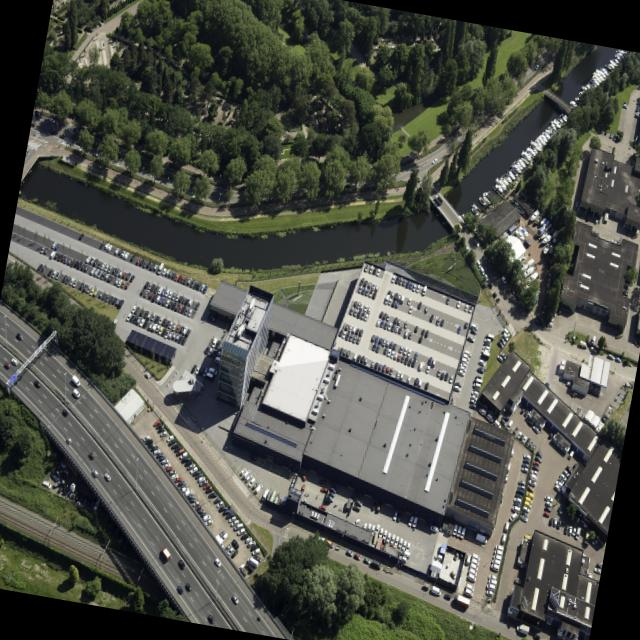large-vehicle: (451, 592, 469, 609), (514, 620, 529, 634), (159, 545, 170, 561), (237, 561, 248, 575), (474, 532, 486, 543), (430, 584, 441, 595), (432, 192, 442, 204), (155, 261, 163, 274), (204, 370, 214, 380), (508, 510, 517, 521), (470, 551, 480, 560), (453, 220, 462, 230), (463, 587, 472, 597), (522, 237, 531, 247), (485, 411, 493, 422), (505, 418, 512, 430), (458, 526, 465, 538), (464, 582, 473, 591), (207, 365, 216, 374), (466, 572, 475, 581), (467, 567, 476, 576), (492, 418, 500, 428), (464, 552, 470, 565), (487, 577, 496, 585), (500, 531, 506, 543), (478, 406, 486, 415), (455, 524, 461, 536), (428, 524, 437, 532), (489, 562, 498, 570), (468, 562, 477, 570), (510, 504, 519, 512), (504, 460, 510, 472), (485, 582, 494, 590), (433, 552, 442, 560), (32, 108, 40, 117), (492, 548, 502, 555), (499, 274, 506, 284), (451, 523, 457, 534), (470, 557, 478, 565), (214, 355, 222, 363), (494, 543, 503, 550), (492, 553, 501, 560), (490, 557, 499, 564), (503, 519, 508, 531), (533, 61, 540, 69), (487, 573, 495, 580), (216, 350, 223, 356), (47, 116, 54, 122)
ship: (493, 175, 508, 191), (520, 262, 534, 279), (528, 137, 542, 152), (525, 268, 538, 284), (511, 200, 524, 213), (591, 69, 604, 82), (517, 223, 529, 237), (513, 227, 525, 241), (519, 148, 531, 161), (534, 222, 545, 236), (528, 207, 539, 221), (539, 232, 551, 244), (509, 161, 521, 173), (594, 66, 605, 78), (501, 171, 512, 183), (518, 260, 528, 273), (535, 135, 546, 146), (512, 158, 523, 169), (505, 168, 515, 180), (493, 181, 503, 193), (541, 240, 550, 253), (549, 118, 560, 128), (537, 132, 548, 142), (525, 145, 535, 156), (516, 156, 526, 167), (598, 65, 609, 75), (589, 75, 599, 86), (591, 72, 601, 83), (614, 48, 624, 59), (498, 175, 508, 186), (508, 166, 518, 176), (540, 129, 550, 139), (519, 154, 529, 164), (538, 229, 548, 239), (533, 137, 542, 148), (547, 223, 556, 234), (532, 213, 541, 224), (541, 216, 549, 228), (481, 194, 490, 204), (557, 112, 567, 121), (543, 126, 552, 136), (528, 143, 537, 153), (537, 215, 546, 225), (608, 57, 617, 66), (568, 98, 577, 107), (550, 228, 558, 238), (470, 206, 478, 216), (549, 121, 557, 130), (543, 221, 551, 230), (579, 83, 587, 92), (583, 81, 590, 91), (613, 53, 621, 61), (589, 78, 596, 87), (573, 94, 580, 103), (577, 89, 584, 98), (611, 56, 619, 63), (603, 62, 611, 69), (607, 61, 614, 68), (547, 270, 553, 278), (556, 116, 562, 123), (471, 202, 477, 209), (546, 281, 550, 289), (481, 191, 488, 195), (520, 254, 525, 258)
small-vehicle: (64, 481, 76, 497), (213, 532, 224, 548), (245, 554, 258, 567), (69, 373, 80, 387), (369, 558, 381, 569), (260, 486, 269, 500), (52, 477, 63, 487), (40, 478, 51, 488), (577, 338, 587, 348), (174, 446, 184, 456), (222, 541, 231, 552), (253, 482, 262, 493), (244, 561, 253, 572), (582, 530, 589, 544), (573, 525, 580, 539), (177, 557, 185, 569), (230, 536, 238, 548), (241, 467, 249, 479), (71, 386, 79, 398), (230, 592, 238, 604), (374, 499, 381, 512), (92, 497, 99, 510), (246, 476, 255, 486), (397, 553, 406, 563), (206, 612, 214, 623), (175, 583, 183, 594), (213, 556, 221, 567), (115, 297, 123, 308), (410, 515, 417, 527), (477, 406, 486, 415), (553, 479, 562, 488), (484, 331, 493, 340), (480, 349, 489, 358), (233, 521, 242, 530), (400, 549, 409, 558), (246, 538, 255, 547), (566, 448, 574, 458), (472, 376, 482, 384), (558, 471, 566, 481), (501, 326, 509, 336), (226, 545, 234, 555), (219, 531, 227, 541), (56, 483, 64, 493), (229, 518, 239, 526), (364, 521, 371, 532), (406, 515, 413, 526), (368, 523, 375, 534), (396, 536, 403, 547), (392, 534, 399, 545), (384, 531, 391, 542), (230, 547, 237, 558), (194, 279, 201, 290), (193, 363, 200, 374), (452, 383, 460, 392), (524, 490, 533, 498), (528, 472, 537, 480), (524, 494, 532, 503), (592, 565, 601, 573), (564, 464, 572, 473), (519, 513, 527, 522), (495, 353, 503, 362), (469, 321, 477, 330), (460, 355, 468, 364), (462, 348, 471, 356), (477, 357, 485, 366), (351, 517, 359, 526), (395, 510, 401, 522), (512, 495, 521, 503), (353, 498, 362, 506), (351, 503, 360, 511), (188, 465, 197, 473), (250, 480, 258, 489), (325, 493, 333, 502), (177, 481, 186, 489), (198, 478, 207, 486), (325, 538, 333, 547), (218, 503, 227, 511), (49, 471, 57, 480), (32, 378, 40, 387), (9, 356, 17, 365), (238, 466, 246, 475), (236, 526, 244, 535), (90, 467, 98, 476), (60, 485, 68, 494), (131, 313, 138, 323), (496, 338, 503, 348), (478, 264, 485, 274), (184, 581, 191, 591), (244, 472, 251, 482), (531, 423, 538, 433), (420, 284, 426, 295), (377, 526, 383, 537), (369, 500, 375, 511), (391, 509, 397, 520), (555, 517, 561, 528), (404, 540, 410, 551), (400, 539, 406, 550), (381, 528, 387, 539), (373, 522, 379, 533), (98, 238, 104, 249), (210, 336, 216, 347), (533, 454, 541, 462), (531, 463, 539, 471), (534, 449, 542, 457), (527, 477, 535, 485), (561, 468, 569, 476), (522, 499, 530, 507), (498, 350, 506, 358), (458, 364, 466, 372), (461, 352, 469, 360), (352, 551, 360, 559), (344, 548, 352, 556), (186, 461, 194, 469), (183, 458, 191, 466), (181, 454, 189, 462), (178, 450, 186, 458), (196, 474, 204, 482), (201, 513, 209, 521), (183, 488, 191, 496), (251, 546, 259, 554), (204, 485, 212, 493), (316, 535, 324, 543), (155, 450, 163, 458), (167, 437, 175, 445), (165, 433, 173, 441), (227, 514, 235, 522), (225, 510, 233, 518), (215, 499, 223, 507), (515, 487, 523, 495), (522, 452, 530, 460), (60, 407, 68, 415), (152, 418, 160, 426), (544, 380, 551, 389), (529, 442, 536, 451), (471, 381, 480, 388), (553, 482, 560, 491), (522, 407, 529, 416), (156, 315, 163, 324), (137, 317, 144, 326), (499, 417, 506, 426), (533, 317, 540, 326), (501, 331, 508, 340), (498, 335, 505, 344), (543, 494, 552, 501), (430, 557, 439, 564), (252, 554, 261, 561), (299, 471, 306, 480), (203, 518, 212, 525), (218, 343, 225, 352), (91, 287, 98, 296), (129, 303, 136, 312), (53, 270, 60, 279), (84, 283, 91, 292), (70, 277, 77, 286), (63, 274, 70, 283), (48, 249, 55, 258), (124, 311, 131, 320), (49, 268, 56, 277), (60, 273, 67, 282), (151, 284, 158, 293), (148, 282, 155, 291), (105, 263, 112, 272), (113, 266, 120, 275), (38, 263, 45, 272), (189, 363, 196, 372), (87, 450, 94, 459), (103, 471, 110, 480), (110, 295, 117, 304), (68, 257, 75, 266), (75, 259, 82, 268), (150, 321, 156, 331), (383, 293, 389, 303), (374, 266, 380, 276), (388, 533, 394, 543), (416, 377, 422, 387), (412, 375, 418, 385), (417, 360, 423, 370), (367, 263, 373, 273), (485, 254, 491, 264), (177, 323, 183, 333), (95, 267, 101, 277), (85, 496, 91, 506), (162, 328, 168, 338), (214, 338, 220, 348), (350, 333, 356, 343), (81, 495, 87, 505), (568, 389, 576, 396), (588, 345, 596, 352), (457, 368, 464, 376), (513, 491, 521, 498), (557, 476, 564, 484), (521, 504, 528, 512), (458, 361, 466, 368), (152, 314, 159, 322), (166, 320, 173, 328), (466, 334, 474, 341), (475, 366, 483, 373), (531, 632, 539, 639), (484, 588, 492, 595), (442, 592, 450, 599), (362, 556, 369, 564), (191, 499, 199, 506), (167, 468, 175, 475), (194, 471, 202, 478), (192, 468, 200, 475), (170, 442, 178, 449), (173, 475, 181, 482), (185, 492, 193, 499), (180, 485, 188, 492), (319, 485, 327, 492), (222, 507, 230, 514), (217, 529, 224, 537), (162, 461, 170, 468), (212, 496, 220, 503), (520, 461, 528, 468), (521, 457, 529, 464), (67, 276, 74, 284), (77, 281, 84, 289), (52, 250, 59, 258), (15, 331, 22, 339), (45, 267, 52, 275), (3, 360, 10, 368), (65, 256, 72, 264), (35, 262, 42, 270), (240, 532, 248, 539), (202, 481, 209, 489), (249, 543, 257, 550), (144, 437, 152, 444), (149, 444, 157, 451), (62, 467, 69, 475), (87, 255, 94, 263), (91, 257, 98, 265), (88, 266, 95, 274), (586, 571, 591, 582), (563, 523, 568, 534), (567, 524, 572, 535), (519, 404, 525, 413), (149, 311, 155, 320), (145, 310, 151, 319), (170, 321, 176, 330), (447, 373, 453, 382), (511, 425, 517, 434), (515, 429, 521, 438), (526, 417, 532, 426), (523, 436, 529, 445), (449, 569, 455, 578), (452, 550, 458, 559), (475, 258, 481, 267), (444, 294, 450, 303), (389, 273, 395, 282), (374, 343, 380, 352), (370, 341, 376, 350), (390, 341, 396, 350), (430, 357, 436, 366), (405, 347, 411, 356), (401, 345, 407, 354), (406, 330, 412, 339), (397, 344, 403, 353), (387, 339, 393, 348), (380, 336, 386, 345), (388, 349, 394, 358), (402, 355, 408, 364), (394, 369, 400, 378), (356, 283, 362, 292), (385, 347, 391, 356), (362, 262, 368, 271), (129, 252, 135, 261), (359, 309, 365, 318), (513, 291, 519, 300), (179, 304, 185, 313), (185, 276, 191, 285), (523, 303, 529, 312), (38, 244, 44, 253), (113, 296, 119, 305), (92, 267, 98, 276), (142, 279, 148, 288), (176, 303, 182, 312), (173, 301, 179, 310), (156, 285, 162, 294), (160, 296, 166, 305), (159, 327, 165, 336), (156, 325, 162, 334), (159, 287, 165, 296), (173, 292, 179, 301), (170, 291, 176, 300), (88, 286, 94, 295), (207, 491, 216, 497), (179, 335, 185, 344), (201, 284, 207, 293), (206, 346, 212, 355), (201, 367, 207, 376), (181, 325, 187, 334), (343, 331, 349, 340), (354, 335, 360, 344), (188, 277, 194, 286), (193, 300, 199, 309), (182, 305, 188, 314), (62, 254, 68, 263), (107, 294, 113, 303), (74, 491, 80, 500), (590, 334, 595, 344), (570, 526, 575, 536), (434, 315, 439, 325), (399, 293, 404, 303), (414, 282, 419, 292), (386, 320, 391, 330), (361, 521, 366, 531), (406, 356, 411, 366), (435, 366, 440, 376), (79, 493, 84, 503), (606, 352, 613, 359), (470, 389, 477, 396), (468, 397, 475, 404), (468, 402, 475, 409), (470, 393, 477, 400), (590, 537, 597, 544), (526, 484, 533, 491), (469, 327, 476, 334), (98, 261, 105, 268), (544, 499, 551, 506), (355, 492, 362, 499), (430, 156, 437, 163), (199, 510, 206, 517), (193, 503, 200, 510), (170, 472, 177, 479), (173, 444, 180, 451), (157, 425, 164, 432), (160, 457, 167, 464), (158, 454, 165, 461), (517, 483, 524, 490), (517, 478, 524, 485), (520, 465, 527, 472), (49, 240, 56, 247), (91, 150, 98, 157), (244, 535, 251, 542), (142, 434, 149, 441), (152, 447, 159, 454), (154, 422, 161, 429), (547, 429, 553, 437), (453, 380, 461, 386), (500, 414, 508, 420), (529, 468, 537, 474), (481, 344, 489, 350), (160, 317, 166, 325), (163, 318, 169, 326), (134, 316, 140, 324), (128, 313, 134, 321), (133, 305, 139, 313), (138, 307, 144, 315), (142, 309, 148, 317), (98, 270, 104, 278), (105, 243, 111, 251), (520, 434, 526, 442), (146, 321, 152, 329), (486, 279, 492, 287), (482, 272, 488, 280), (473, 238, 479, 246), (405, 296, 411, 304), (377, 309, 383, 317), (412, 350, 418, 358), (369, 333, 375, 341), (370, 290, 376, 298), (387, 366, 393, 374), (358, 354, 364, 362), (358, 276, 364, 284), (141, 319, 147, 327), (153, 323, 159, 331), (166, 268, 172, 276), (181, 275, 187, 283), (148, 261, 154, 269), (134, 256, 140, 264), (172, 272, 178, 280), (195, 507, 203, 513), (317, 504, 325, 510), (344, 348, 350, 356), (362, 312, 368, 320), (350, 324, 356, 332), (351, 351, 357, 359), (122, 250, 128, 258), (65, 435, 71, 443), (56, 464, 62, 472), (157, 295, 163, 303), (53, 468, 59, 476), (56, 252, 62, 260), (59, 253, 65, 261), (142, 288, 148, 296), (106, 273, 112, 281), (170, 331, 176, 339), (166, 330, 172, 338), (163, 288, 169, 296), (166, 290, 172, 298), (128, 273, 134, 281), (119, 279, 125, 287), (124, 271, 130, 279), (123, 280, 129, 288), (115, 277, 121, 285), (163, 298, 169, 306), (198, 282, 204, 290), (186, 308, 192, 316), (183, 328, 189, 336), (103, 293, 109, 301), (146, 441, 154, 447), (72, 258, 78, 266), (84, 254, 90, 262), (112, 246, 118, 254), (77, 231, 83, 239), (82, 263, 88, 271), (463, 302, 468, 311), (352, 307, 357, 316), (348, 305, 353, 314), (174, 323, 179, 332), (416, 300, 421, 309), (382, 345, 387, 354), (397, 275, 402, 284), (438, 317, 443, 326), (428, 312, 433, 321), (407, 304, 412, 313), (375, 317, 380, 326), (382, 319, 387, 328), (389, 322, 394, 331), (403, 328, 408, 337), (426, 355, 431, 364), (410, 357, 415, 366), (547, 516, 552, 525), (552, 516, 557, 525), (498, 492, 503, 501), (423, 380, 428, 389), (300, 482, 305, 491), (357, 327, 362, 336), (355, 352, 360, 361), (490, 261, 495, 270), (495, 268, 500, 277), (509, 285, 514, 294), (60, 470, 65, 479), (438, 371, 443, 380), (527, 439, 532, 448), (337, 327, 342, 336), (340, 329, 345, 338), (89, 498, 94, 507), (614, 355, 620, 362), (531, 459, 538, 465), (521, 509, 527, 516), (483, 336, 490, 342), (102, 263, 108, 270), (102, 272, 108, 279), (102, 241, 108, 248), (395, 293, 401, 300), (542, 510, 549, 516), (512, 500, 519, 506), (372, 361, 378, 368), (414, 175, 420, 182), (188, 496, 195, 502), (328, 486, 335, 492), (330, 481, 337, 487), (327, 490, 334, 496), (159, 430, 166, 436), (42, 246, 48, 253), (81, 283, 87, 290), (120, 270, 126, 277), (110, 266, 116, 273), (186, 298, 192, 305), (99, 292, 105, 299), (143, 370, 149, 377), (119, 249, 125, 256), (79, 262, 85, 269), (467, 304, 472, 312), (358, 301, 363, 309), (518, 432, 523, 440), (404, 279, 409, 287), (407, 280, 412, 288), (455, 299, 460, 307), (392, 291, 397, 299), (400, 277, 405, 285), (385, 312, 390, 320), (423, 328, 428, 336), (419, 327, 424, 335), (402, 319, 407, 327), (395, 317, 400, 325), (392, 315, 397, 323), (381, 311, 386, 319), (417, 334, 422, 342), (384, 338, 389, 346), (377, 336, 382, 344), (373, 334, 378, 342), (398, 371, 403, 379), (392, 351, 397, 359), (399, 354, 404, 362), (380, 363, 385, 371), (369, 359, 374, 367), (424, 364, 429, 372), (367, 288, 372, 296), (352, 299, 357, 307), (355, 300, 360, 308), (366, 280, 371, 288), (363, 287, 368, 295), (360, 286, 365, 294), (362, 278, 367, 286), (405, 374, 410, 382), (138, 257, 143, 265), (164, 267, 169, 275), (160, 266, 165, 274), (141, 259, 146, 267), (176, 273, 181, 281), (347, 323, 352, 331), (179, 274, 184, 282), (355, 309, 360, 317), (177, 334, 182, 342), (183, 296, 188, 304), (341, 347, 346, 355), (151, 292, 156, 300), (113, 276, 118, 284), (146, 281, 151, 289), (174, 332, 179, 340), (117, 268, 122, 276), (170, 300, 175, 308), (177, 294, 182, 302), (347, 332, 352, 340), (343, 322, 348, 330), (203, 345, 208, 353), (111, 317, 116, 325), (117, 247, 122, 255), (565, 380, 571, 386), (472, 386, 478, 392), (621, 102, 627, 108), (546, 320, 552, 326), (509, 446, 513, 455), (503, 473, 507, 482), (544, 504, 550, 510), (177, 479, 183, 485), (166, 465, 172, 471), (506, 278, 510, 287), (456, 324, 460, 333), (443, 371, 447, 380), (74, 139, 80, 145), (621, 286, 628, 291), (519, 298, 524, 305), (495, 295, 500, 302), (621, 290, 628, 295), (385, 288, 390, 295), (389, 290, 394, 297), (386, 297, 391, 304), (378, 319, 383, 326), (362, 303, 367, 310), (393, 324, 398, 331), (393, 300, 398, 307), (395, 353, 400, 360), (384, 365, 389, 372), (362, 356, 367, 363), (376, 362, 381, 369), (371, 266, 376, 273), (145, 260, 150, 267), (152, 263, 157, 270), (170, 271, 175, 278), (337, 346, 342, 353), (318, 478, 325, 483), (366, 305, 371, 312), (370, 282, 375, 289), (154, 294, 159, 301), (95, 260, 100, 267), (147, 291, 152, 298), (138, 287, 143, 294), (166, 300, 171, 307), (180, 296, 185, 303), (343, 182, 350, 187), (198, 366, 203, 373), (191, 281, 196, 288), (210, 348, 215, 355), (97, 290, 102, 297), (603, 340, 607, 348), (463, 320, 467, 328), (411, 282, 415, 290), (394, 275, 398, 283), (423, 304, 427, 312), (397, 325, 401, 333), (595, 561, 600, 567), (634, 107, 640, 112), (633, 112, 639, 117), (58, 133, 64, 138), (491, 290, 496, 296), (474, 374, 480, 379), (622, 282, 627, 288), (373, 284, 378, 290), (412, 167, 418, 172), (53, 243, 58, 249), (482, 341, 489, 345), (480, 348, 487, 352), (625, 228, 629, 235), (413, 324, 417, 331), (390, 299, 394, 306), (354, 327, 358, 334), (558, 504, 561, 513), (547, 316, 552, 321), (49, 129, 54, 134), (608, 131, 612, 137), (611, 133, 615, 139), (636, 83, 640, 89), (593, 217, 597, 223), (557, 637, 564, 640), (574, 200, 577, 207), (585, 213, 588, 220), (622, 100, 627, 104), (635, 100, 640, 104), (635, 103, 640, 107), (635, 105, 640, 109), (634, 110, 639, 114), (548, 314, 553, 318), (557, 307, 560, 313), (598, 127, 601, 133), (603, 129, 606, 134), (636, 98, 640, 101)
